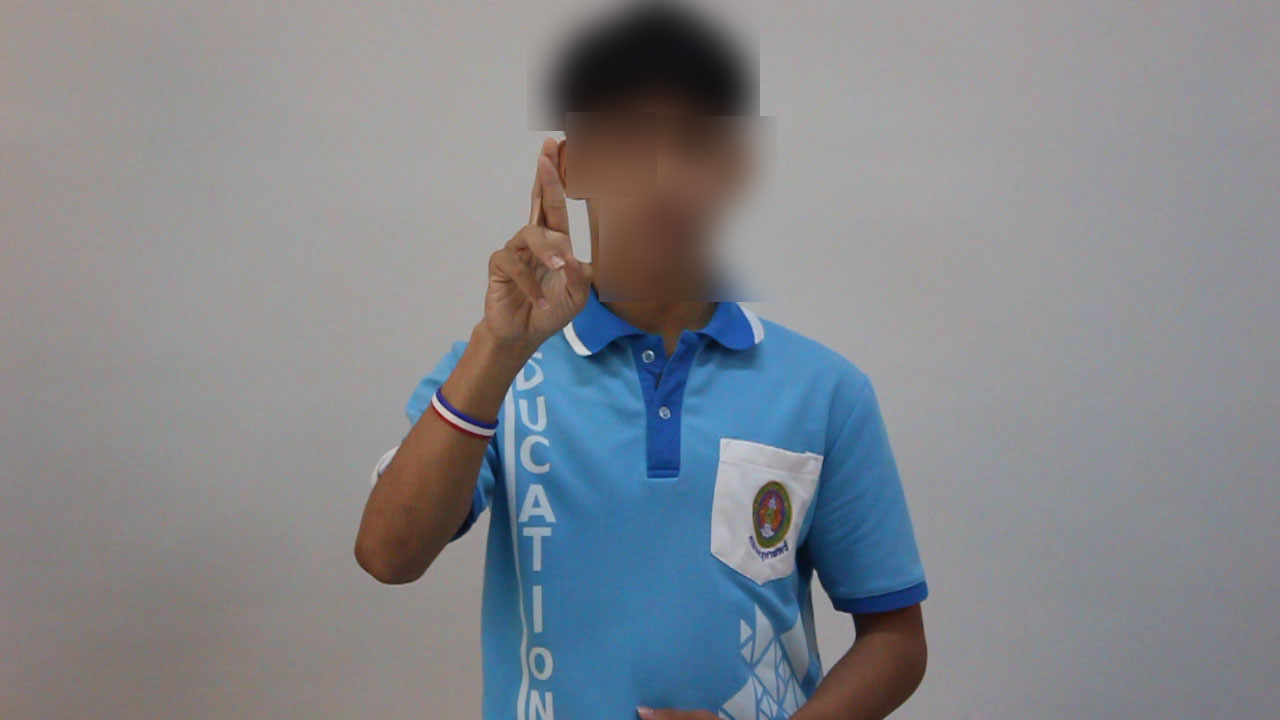rao: (447, 132, 599, 345)
